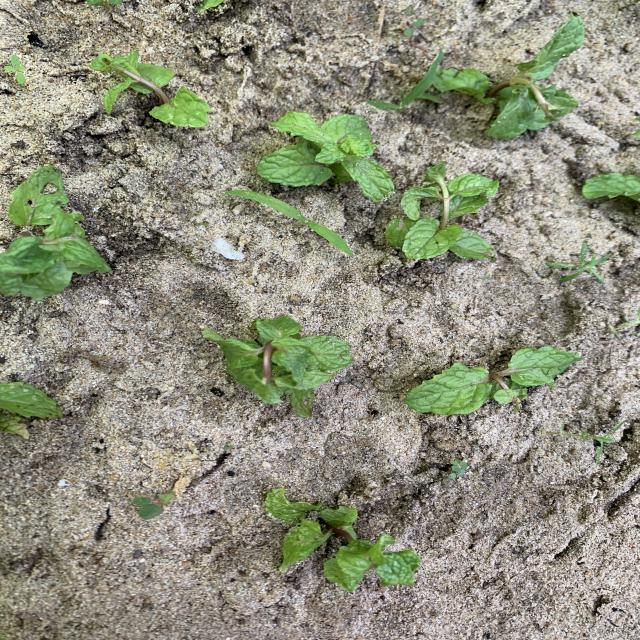crop: (436, 14, 583, 137), (264, 490, 419, 590), (203, 317, 351, 416), (1, 167, 110, 299), (258, 113, 393, 201), (406, 347, 581, 414), (385, 165, 497, 259), (91, 52, 208, 125), (1, 383, 61, 437), (582, 174, 639, 202)
weed: (225, 191, 352, 255), (368, 49, 444, 110), (560, 421, 627, 465), (546, 241, 612, 284), (133, 489, 175, 518), (5, 55, 26, 84), (443, 460, 467, 482), (404, 16, 423, 35), (87, 1, 122, 7), (482, 276, 492, 280)
